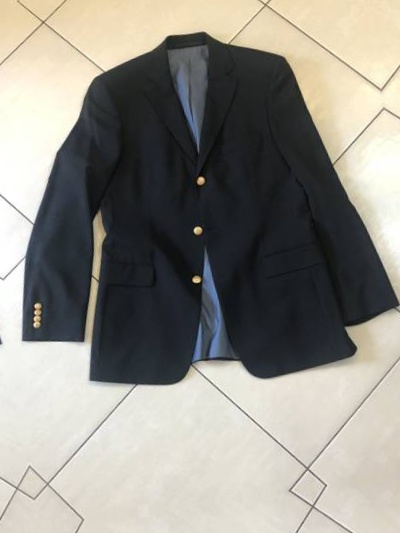Blazer: (0, 0, 400, 422), (374, 0, 400, 368), (0, 53, 3, 480)
